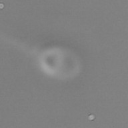normal: (1, 30, 41, 58)
